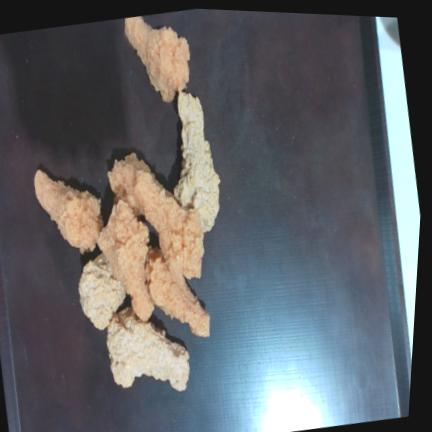chicken: (134, 173, 204, 278), (107, 307, 190, 391), (98, 200, 154, 319), (174, 92, 220, 232), (34, 170, 103, 253), (145, 248, 210, 336), (125, 16, 190, 101), (79, 253, 126, 330), (108, 152, 155, 216)
